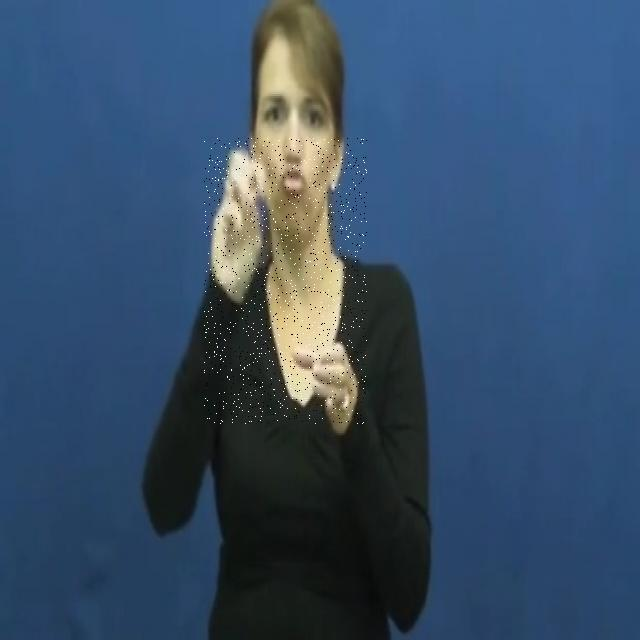straw: (204, 138, 367, 424)
